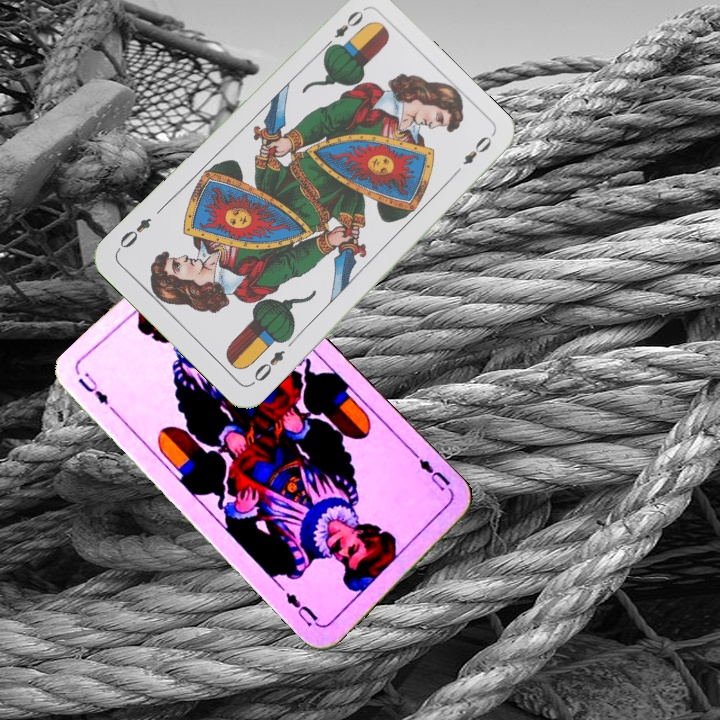EO: (320, 6, 366, 53), (247, 346, 288, 388)
EU: (410, 450, 456, 497), (73, 369, 112, 408)
